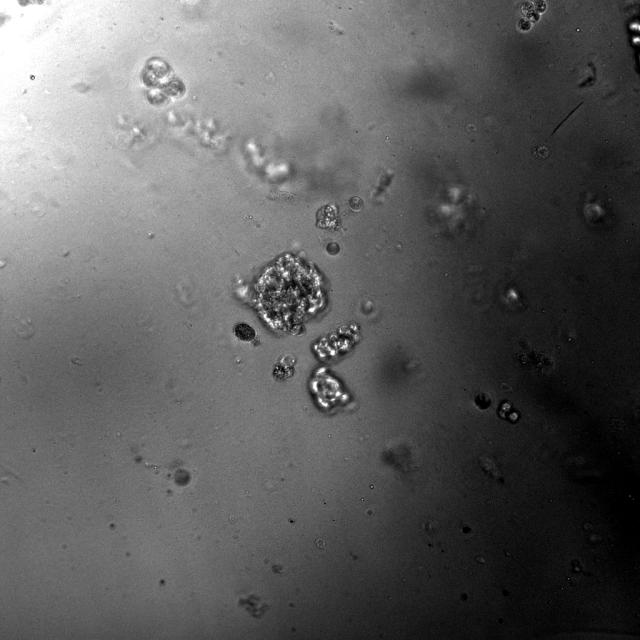organoid: (238, 252, 328, 334), (140, 56, 186, 106), (308, 368, 352, 414), (312, 323, 361, 362), (518, 0, 546, 32), (316, 204, 339, 230), (272, 354, 295, 379), (497, 400, 520, 423), (233, 323, 255, 341), (474, 392, 491, 410), (174, 468, 190, 486), (348, 196, 364, 211), (326, 241, 340, 255)
